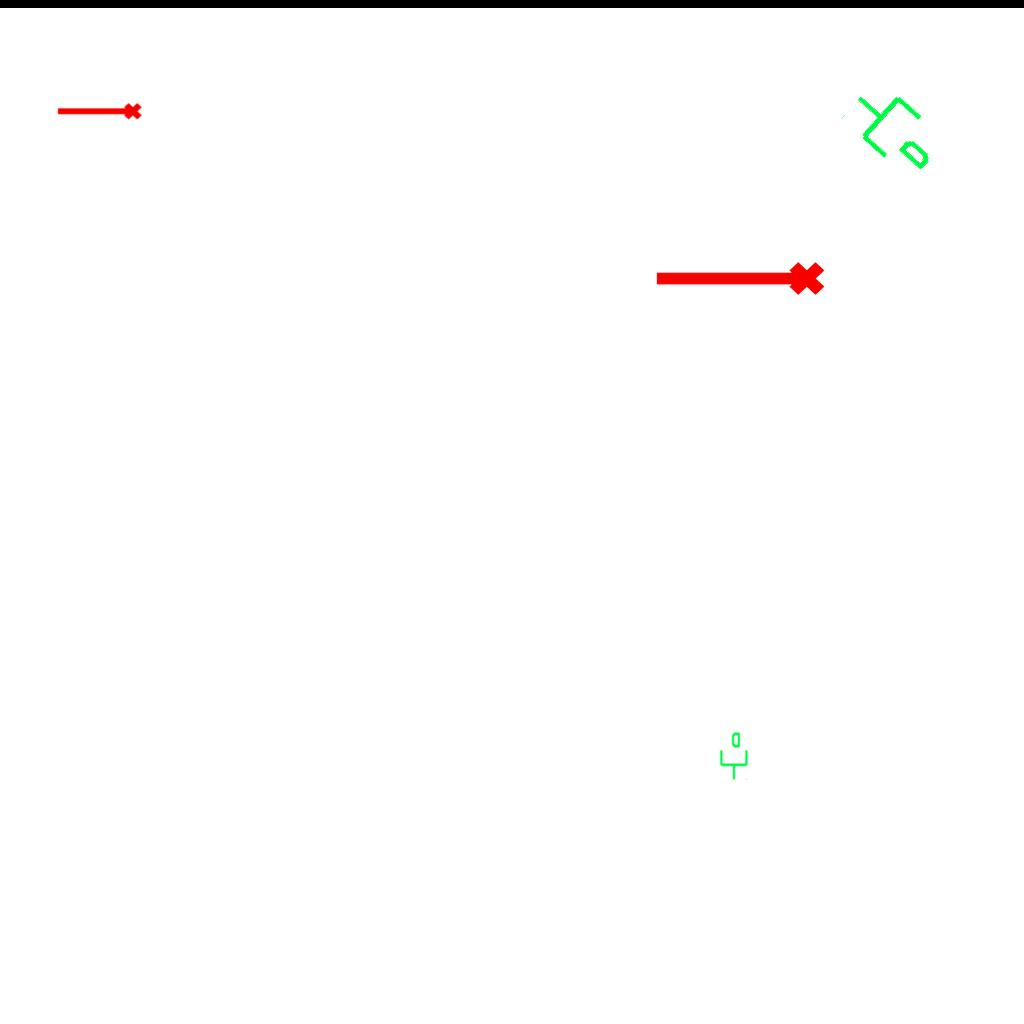ASR_Ansaugoeffnung: (651, 258, 827, 304), (55, 101, 143, 124)
Datenanschluss_einfach: (835, 68, 956, 188), (716, 731, 750, 781)
